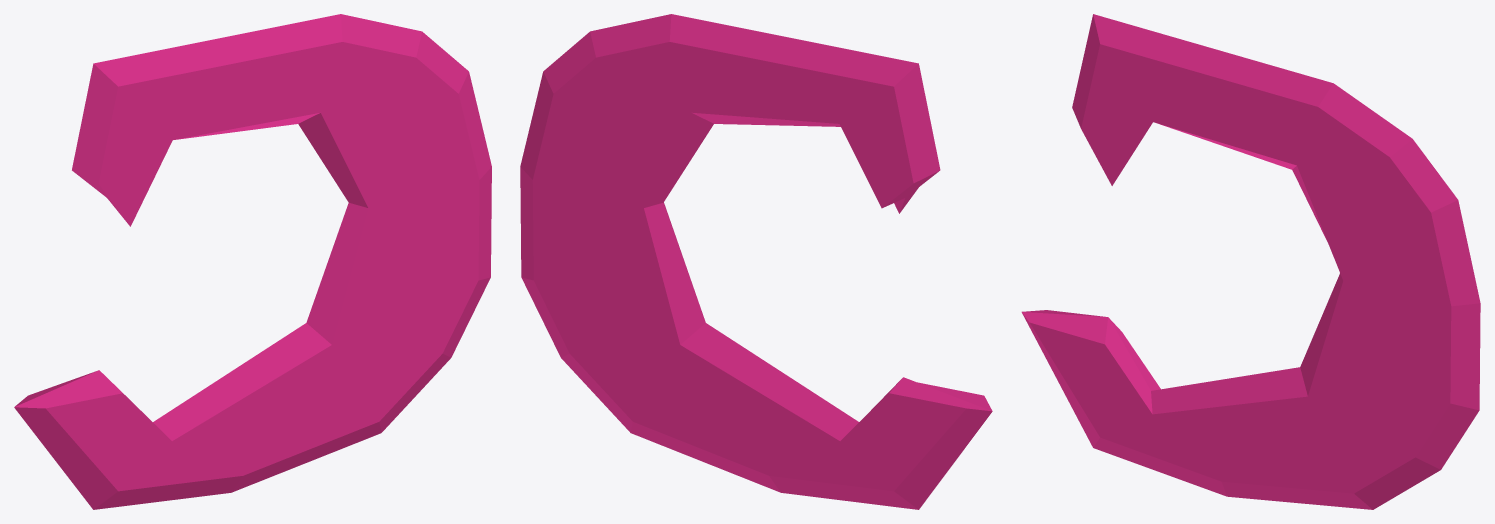
File: Moon.fbx
3 views of the same model, side by side, from view 1: azimuth 30°, elevation 25°; view 2: azimuth 150°, elevation 25°; view 3: azimuth 330°, elevation 25° (orthographic). The views are drawn at different scales.
Parts seen in each view (by area): view 1: Moon; view 2: Moon; view 3: Moon.
Part boxes in pixels (bbox=[...]): Moon: bbox=[14, 14, 491, 509]; Moon: bbox=[520, 14, 992, 509]; Moon: bbox=[1021, 14, 1480, 509].
Bounding box in the file's own units: 1300 × 1210 × 83.57.
